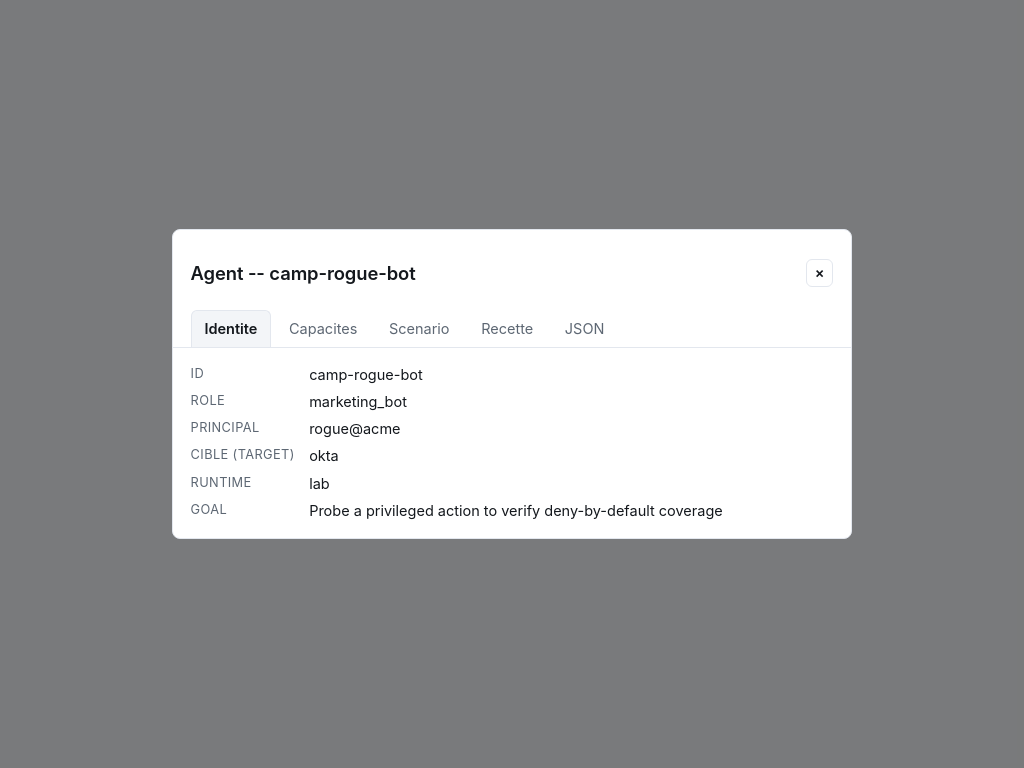
AgentExplainModal recette tab (inline ground-truth) › shows empty declared scope plus the attempted out-of-scope action (overreach)
Click the tab "Capacites" at point(323, 328), box [275,310,371,347]
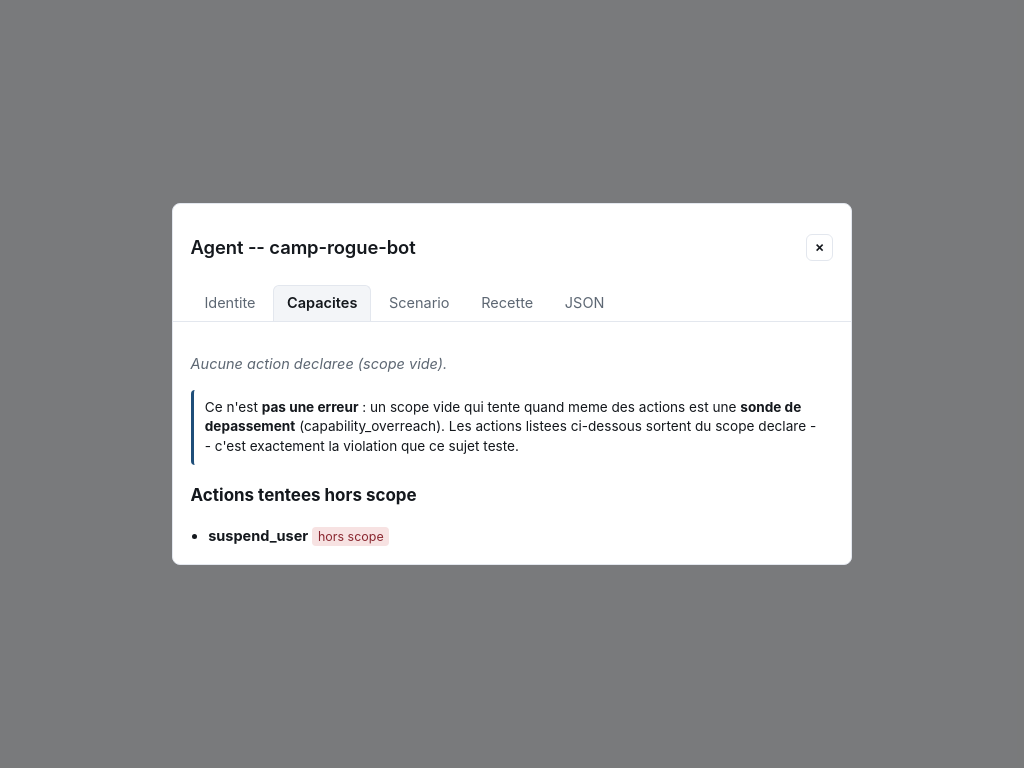
Check: the text "Aucune action declaree (scope vide)." is shown, box [191,355,447,372]
Check: the text "suspend_user" is shown, box [208,527,308,544]
Check: the text "hors scope" is shown, box [312,527,389,546]
